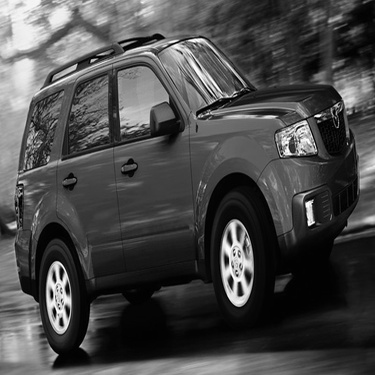car: (12, 29, 363, 355)
